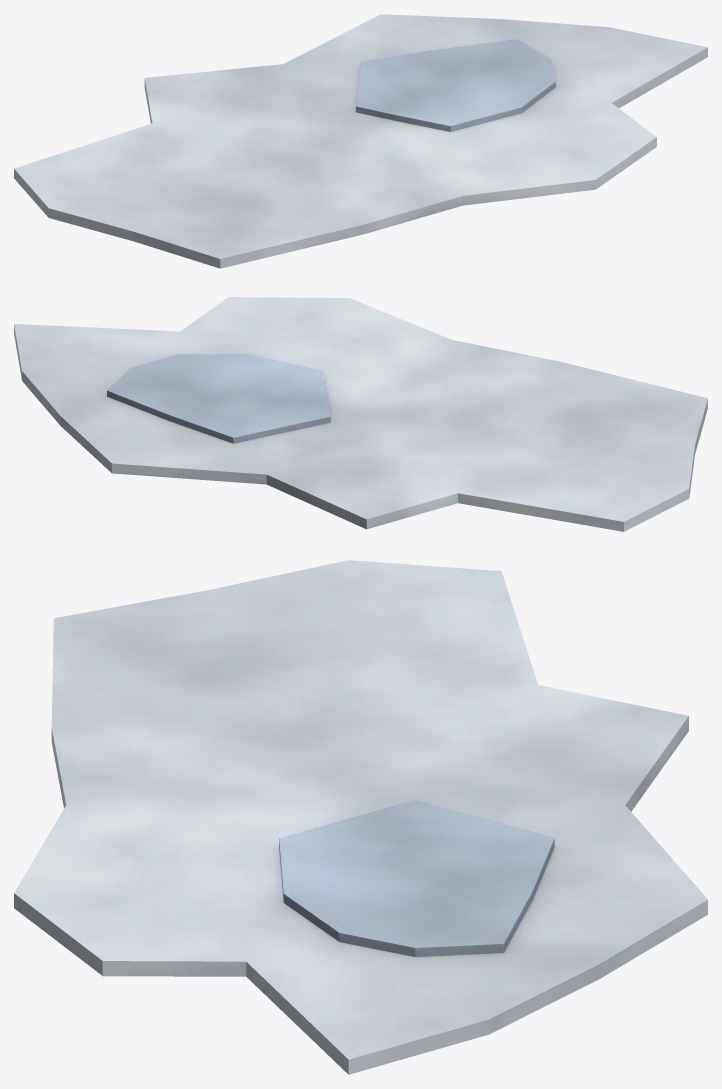
File: snow_patch_idle.glb
The picture shows the model from 3 angles, top to bottom: view 1: azimuth 30°, elevation 25°; view 2: azimuth 150°, elevation 25°; view 3: azimuth 270°, elevation 25°; orthographic projection. The views are drawn at different scales.
Parts seen in each view (by area): view 1: snow_patch; view 2: snow_patch; view 3: snow_patch.
Part boxes in pixels (<box>): snow_patch: <box>14,14,707,268</box>; snow_patch: <box>14,297,707,531</box>; snow_patch: <box>14,560,707,1074</box>.
Bounding box in the file's own units: 1.77 × 0.04 × 1.04.
1 material, 1 textured.
